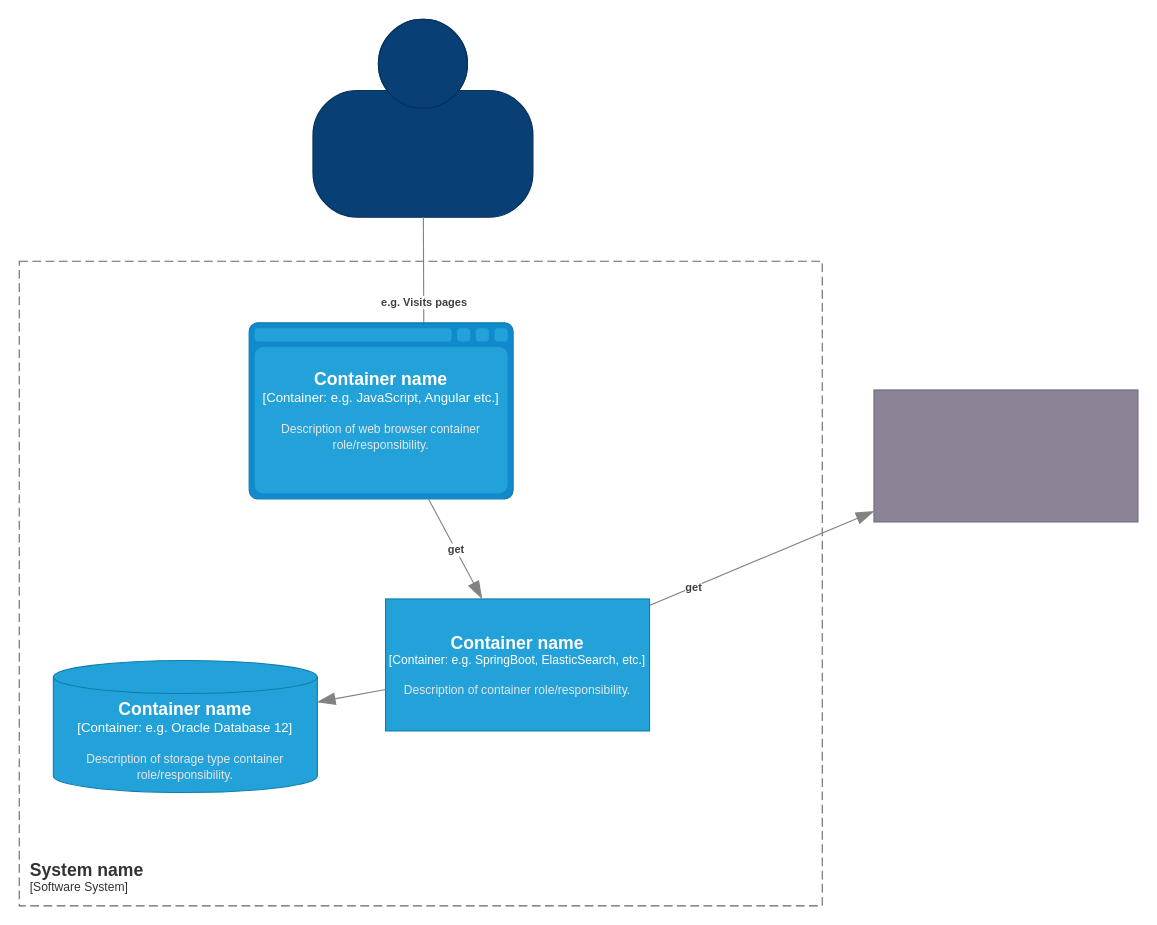
Some shapes in this 1157 by 925 pixel diagram are drawn without their labels. The shapes that lost their labels are listed below. From the top down, each one's centre as x and y in pixels, then its label:
At point (422, 117): "Person name [Person] Description of person.".
At point (1005, 455): "External system name [Software System] Description of external software system.".
